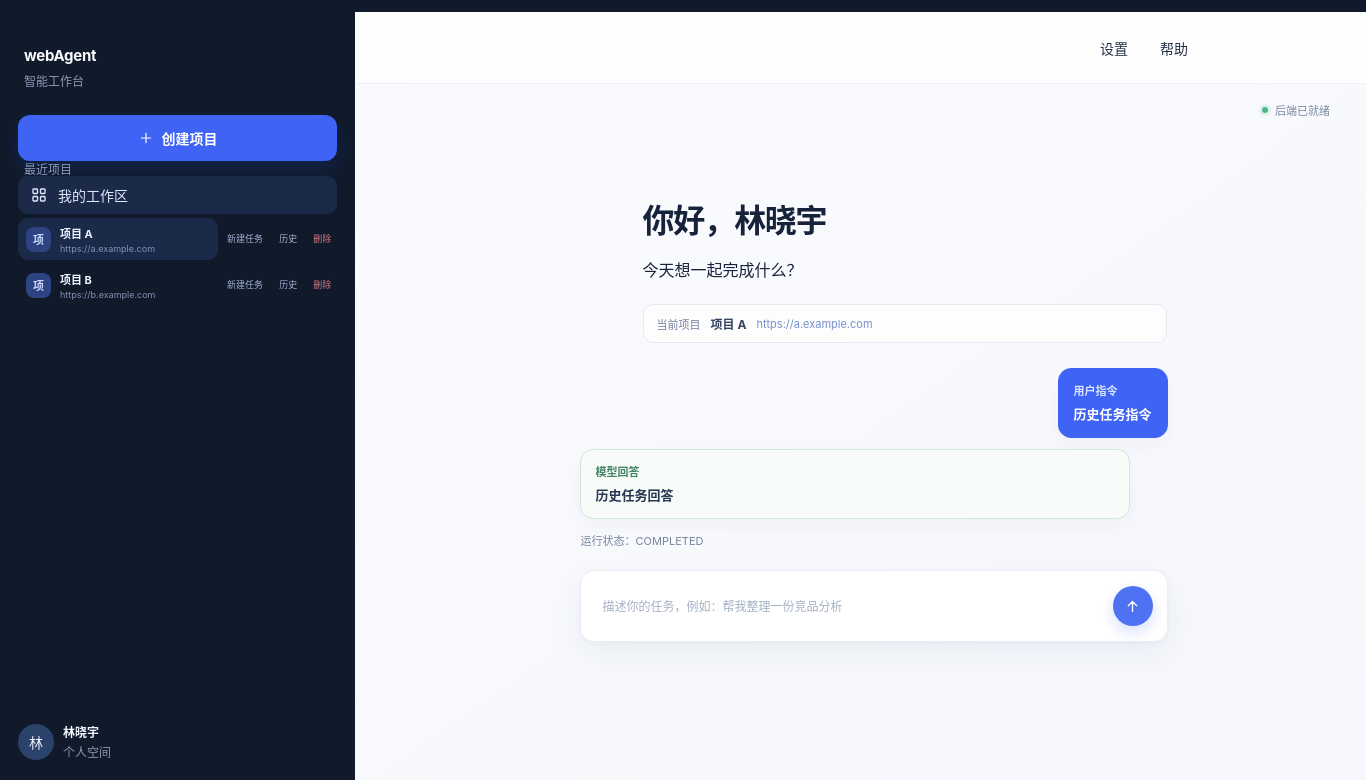
desktop run workspace › restores the latest project interaction and clears it when switching to an empty project
The width and height of the screenshot is (1366, 780).
Expected: the text "历史任务指令" is shown, [1074, 404, 1152, 424]
Expected: the text "历史任务回答" is shown, [596, 487, 674, 503]
Click the button with aria-label "项目 项目 B" at coordinates (118, 285), box [18, 264, 218, 306]
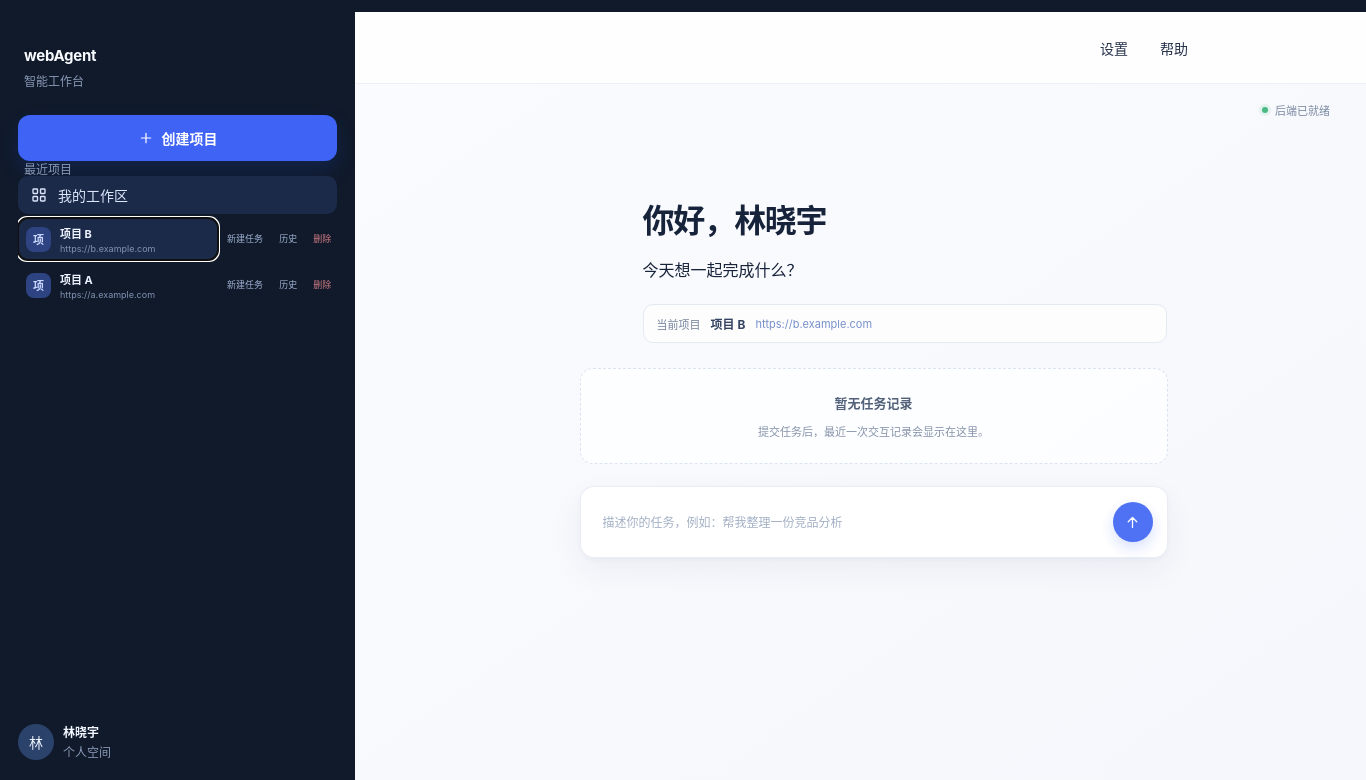
Now the text "暂无任务记录" is shown, box [835, 393, 913, 412]
Now the text "历史任务指令" is gone
